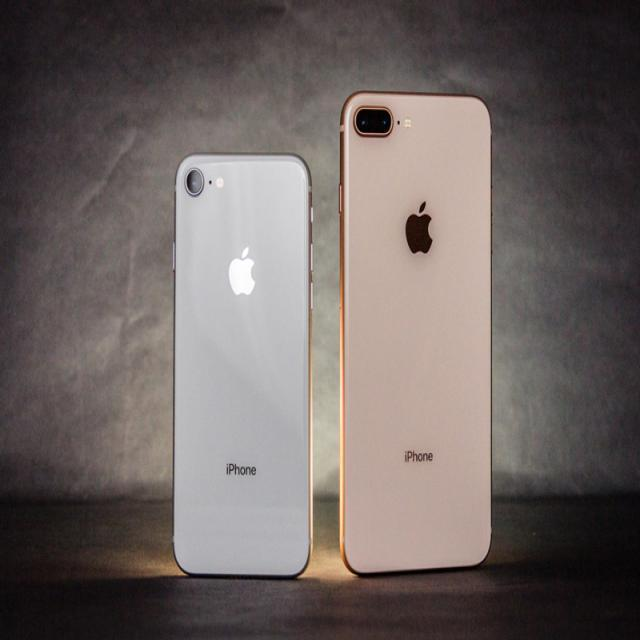phone: (339, 87, 499, 575), (173, 150, 315, 588)
